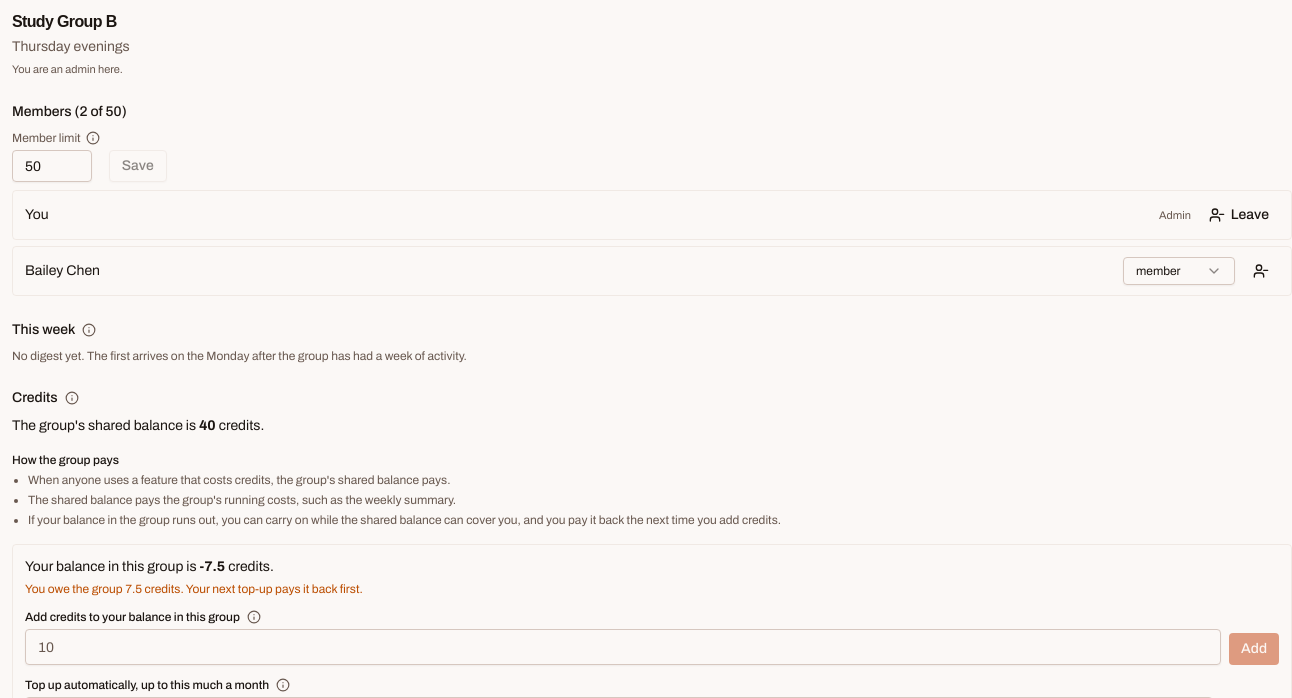
Scenario: GroupDetail › leaving while owing the group (phase 62) › asks first, and sends nothing, when you owe the group
Click the button with aria-label "Leave this group".
click(1239, 215)  # box [1199,199,1279,231]
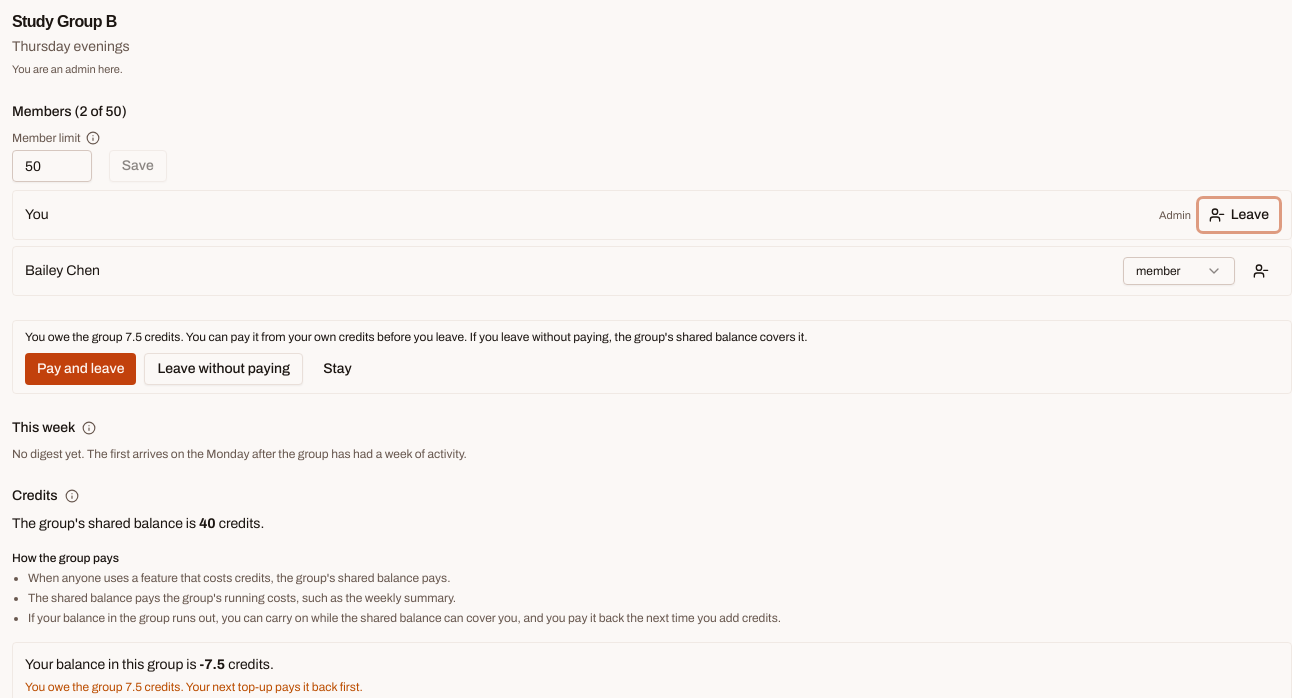
Now the text "before you leave" is shown, box [142,330,808,344]
Now the text "You owe the group 7.5 credits. You can pay" is shown, box [25,330,808,344]
